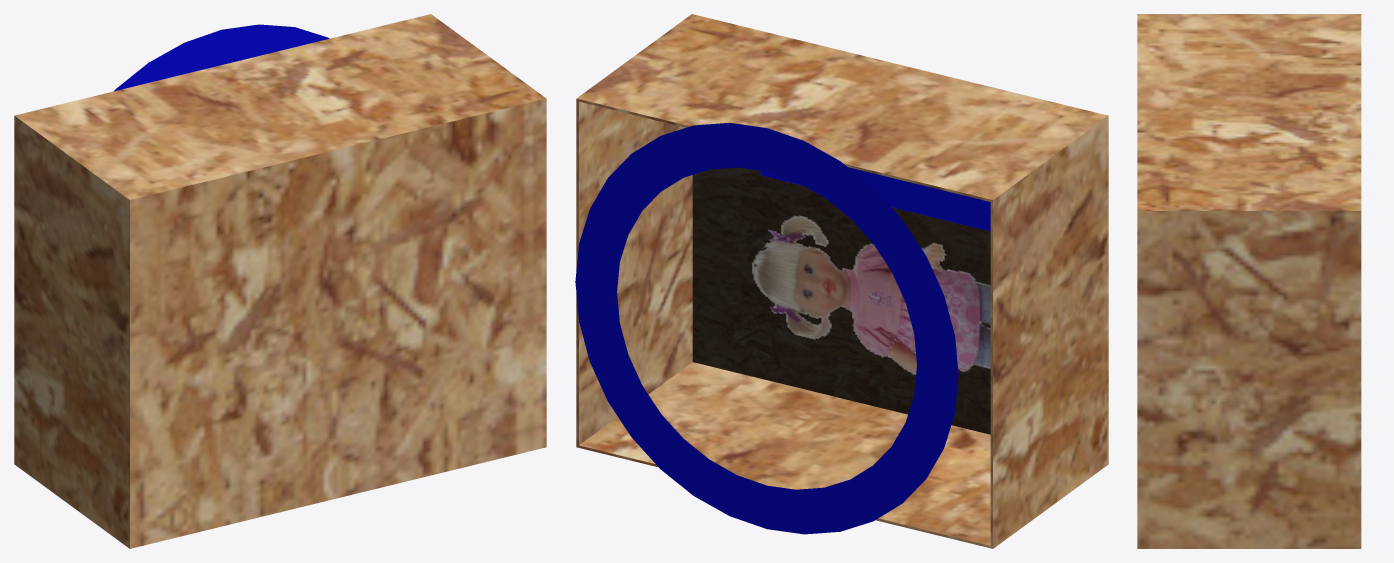
File: victim_with_box_s.dae
The picture shows the model from 3 angles, left to right: view 1: azimuth 30°, elevation 25°; view 2: azimuth 150°, elevation 25°; view 3: azimuth 270°, elevation 25°; orthographic projection. The views are drawn at different scales.
Parts seen in each view (by area): view 1: Untitled; view 2: Untitled; view 3: Untitled.
Boxes of the visible parts, box(x1,y1,x2,y2) form: Untitled: box(14, 14, 546, 548); Untitled: box(575, 14, 1108, 548); Untitled: box(1137, 14, 1361, 548).
Bounding box in the file's own units: 0.5 × 0.2596 × 0.46.
Materials: 3 (2 with a texture image).
